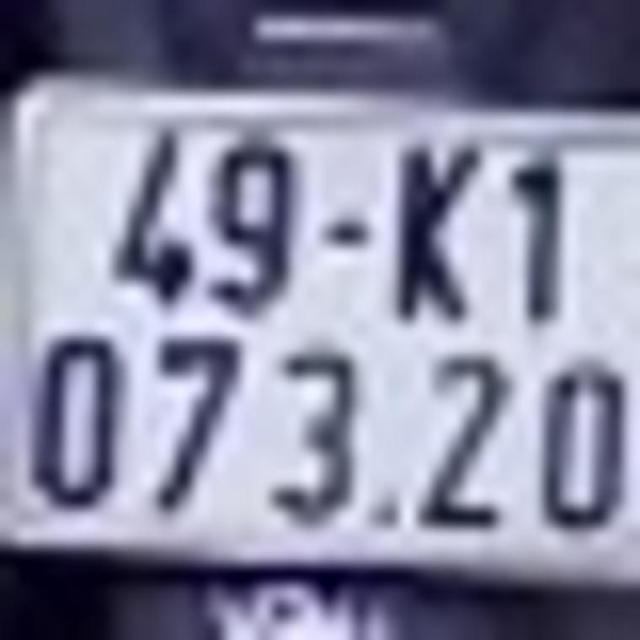0: (28, 323, 124, 511), (536, 345, 629, 533)
1: (504, 143, 571, 327)
2: (417, 343, 510, 531)
3: (268, 340, 358, 529)
4: (106, 122, 196, 309)
7: (146, 324, 246, 521)
9: (206, 136, 296, 319)
K: (394, 132, 483, 329)
